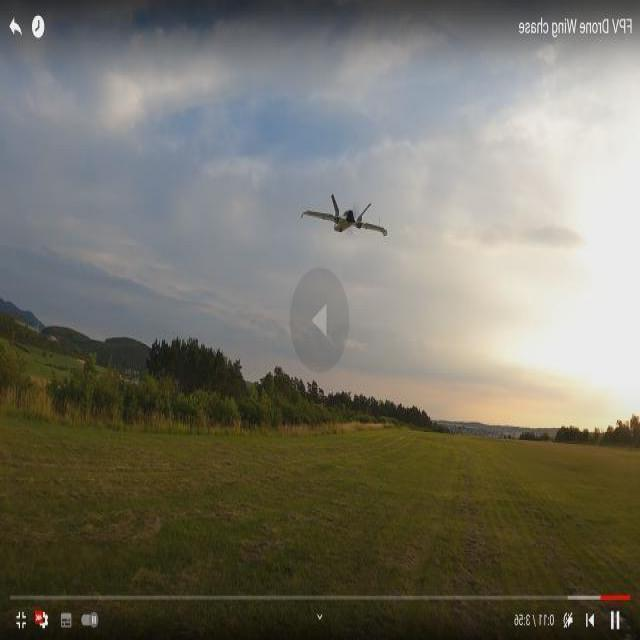iha: (254, 214, 418, 220)
